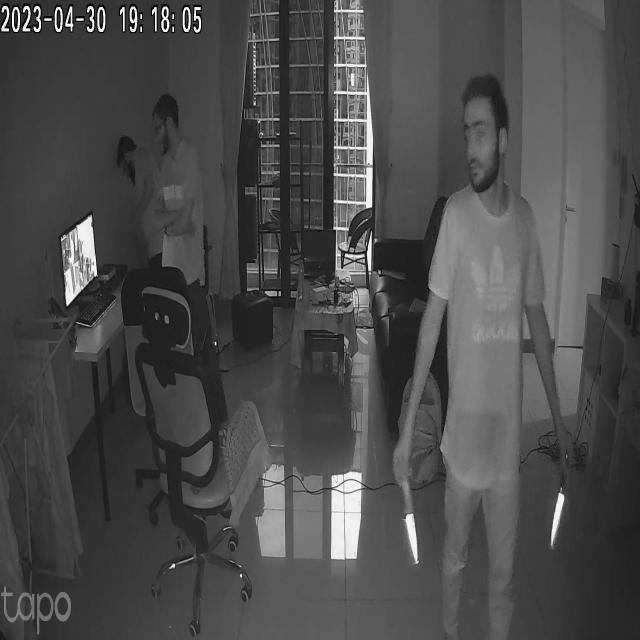Knife: (392, 467, 441, 576), (542, 470, 576, 559)
